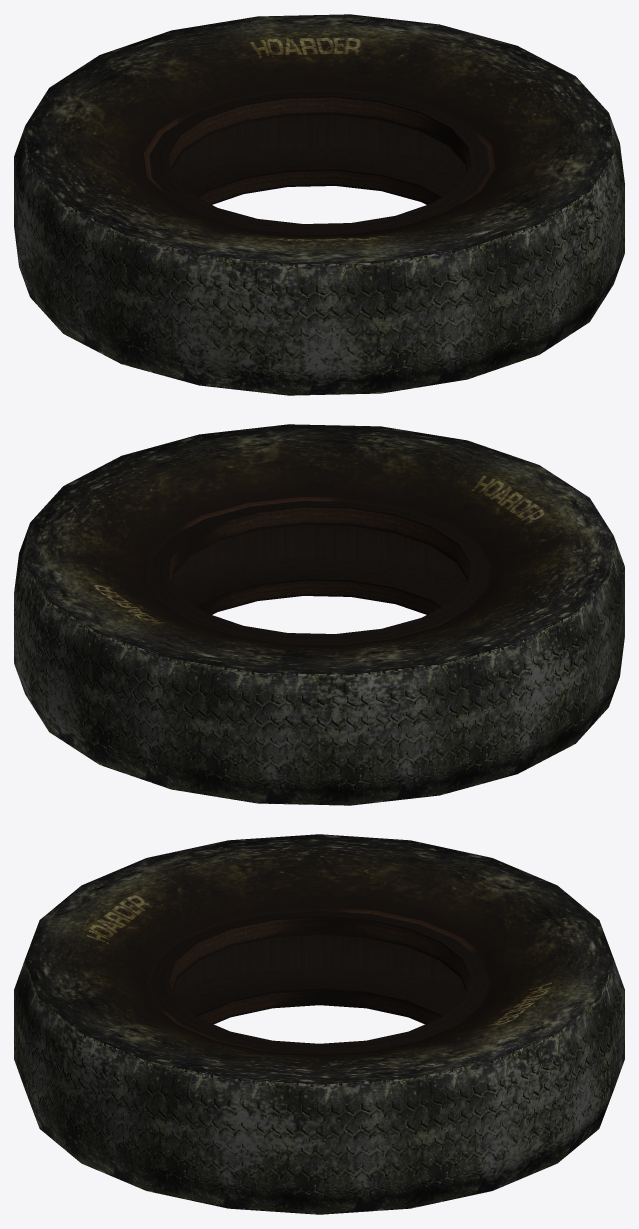
Rendered from !tire_0.fbx.
3 renders of one model, top to bottom at view 1: azimuth 30°, elevation 25°; view 2: azimuth 150°, elevation 25°; view 3: azimuth 270°, elevation 25°, orthographic.
Parts seen in each view (by area): view 1: tire_GEO; view 2: tire_GEO; view 3: tire_GEO.
Part boxes in pixels (bbox=[...]): tire_GEO: bbox=[14, 14, 624, 395]; tire_GEO: bbox=[14, 424, 624, 805]; tire_GEO: bbox=[14, 834, 624, 1214].
Size of the model in its own units: 80 by 19.04 by 80.
